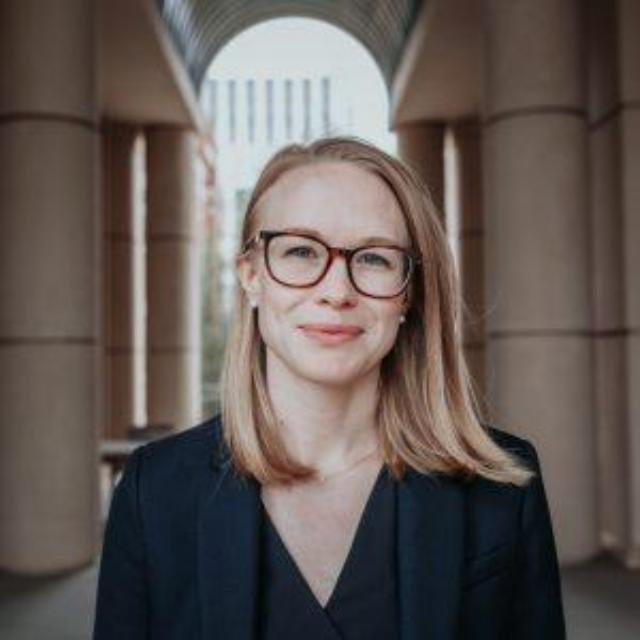person: (102, 135, 566, 635)
